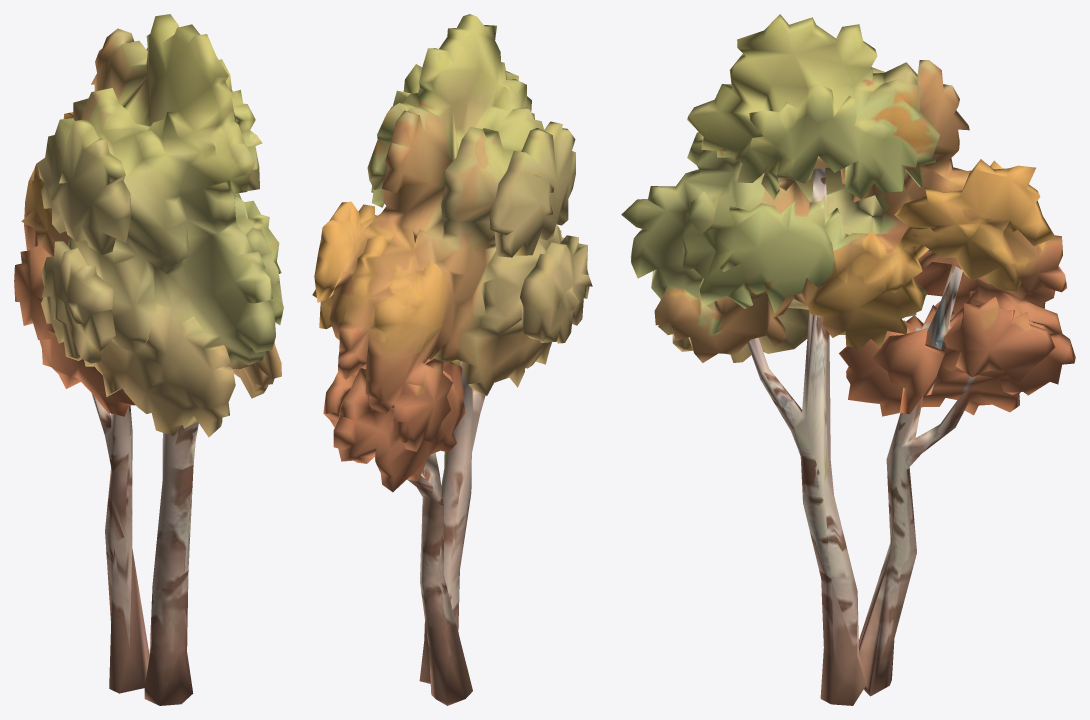
Rendered from birch_b.glb.
3 views of the same model, side by side, from view 1: azimuth 30°, elevation 25°; view 2: azimuth 150°, elevation 25°; view 3: azimuth 270°, elevation 25° (orthographic). The views are drawn at different scales.
Visible parts, largest first — view 1: birch_b; view 2: birch_b; view 3: birch_b.
Part boxes in pixels (x1,y1,x2,y2): birch_b: (14,14,283,705); birch_b: (312,14,592,705); birch_b: (621,14,1075,705).
Bounding box in the file's own units: 2.5 × 8.99 × 5.43.
1 material, 1 textured.
